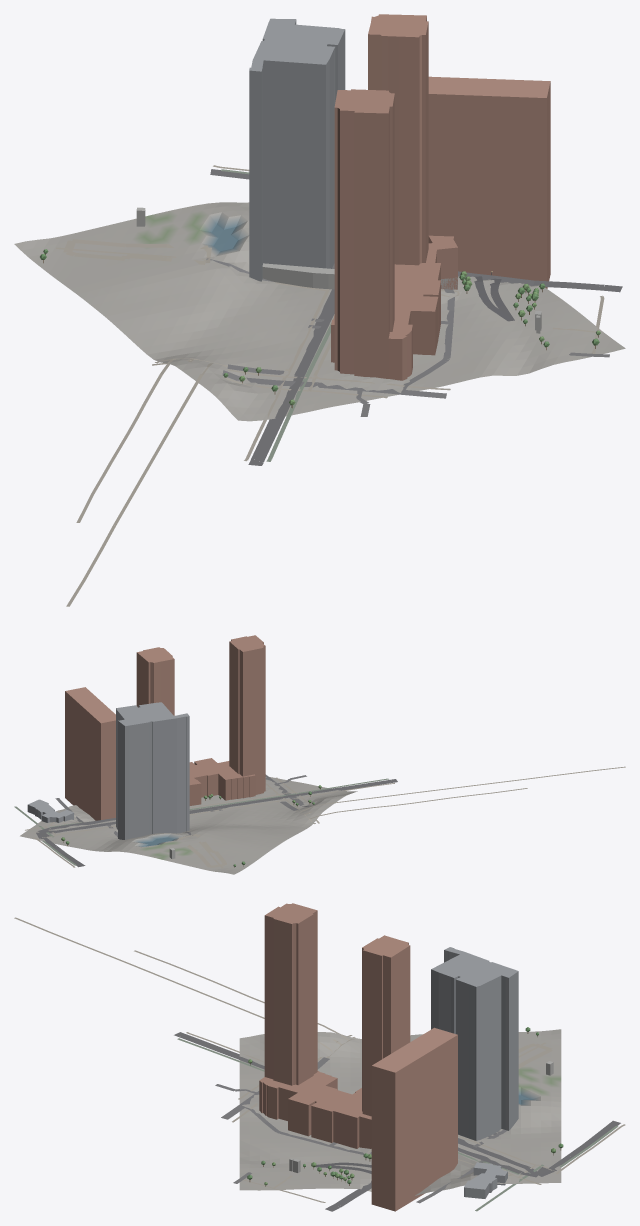
The model's file is tile_-5_3.glb.
3 views of the same model, one above another, from view 1: azimuth 30°, elevation 25°; view 2: azimuth 150°, elevation 25°; view 3: azimuth 270°, elevation 25° (orthographic). The views are drawn at different scales.
Parts seen in each view (by area): view 1: buildings, terrain, roads, props; view 2: buildings, terrain, roads; view 3: buildings, terrain, roads, props.
Boxes of the visible parts, x1,y1,x2,y2 form: buildings: (136, 14, 550, 380); terrain: (14, 202, 625, 421); roads: (56, 165, 622, 606); props: (40, 249, 600, 408); buildings: (27, 635, 265, 858); terrain: (20, 777, 357, 874); roads: (14, 766, 625, 868); buildings: (259, 903, 553, 1211); terrain: (239, 1029, 561, 1195); roads: (14, 917, 625, 1211); props: (247, 1027, 563, 1186).
Bounding box in the file's own units: 517 × 184 × 487.
